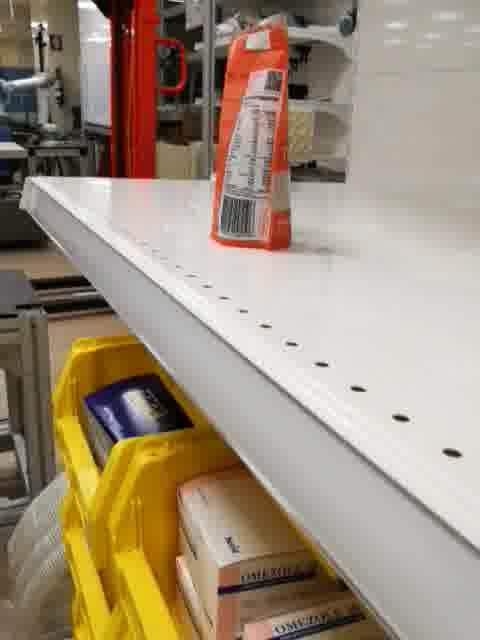whitechia: (207, 10, 294, 252)
